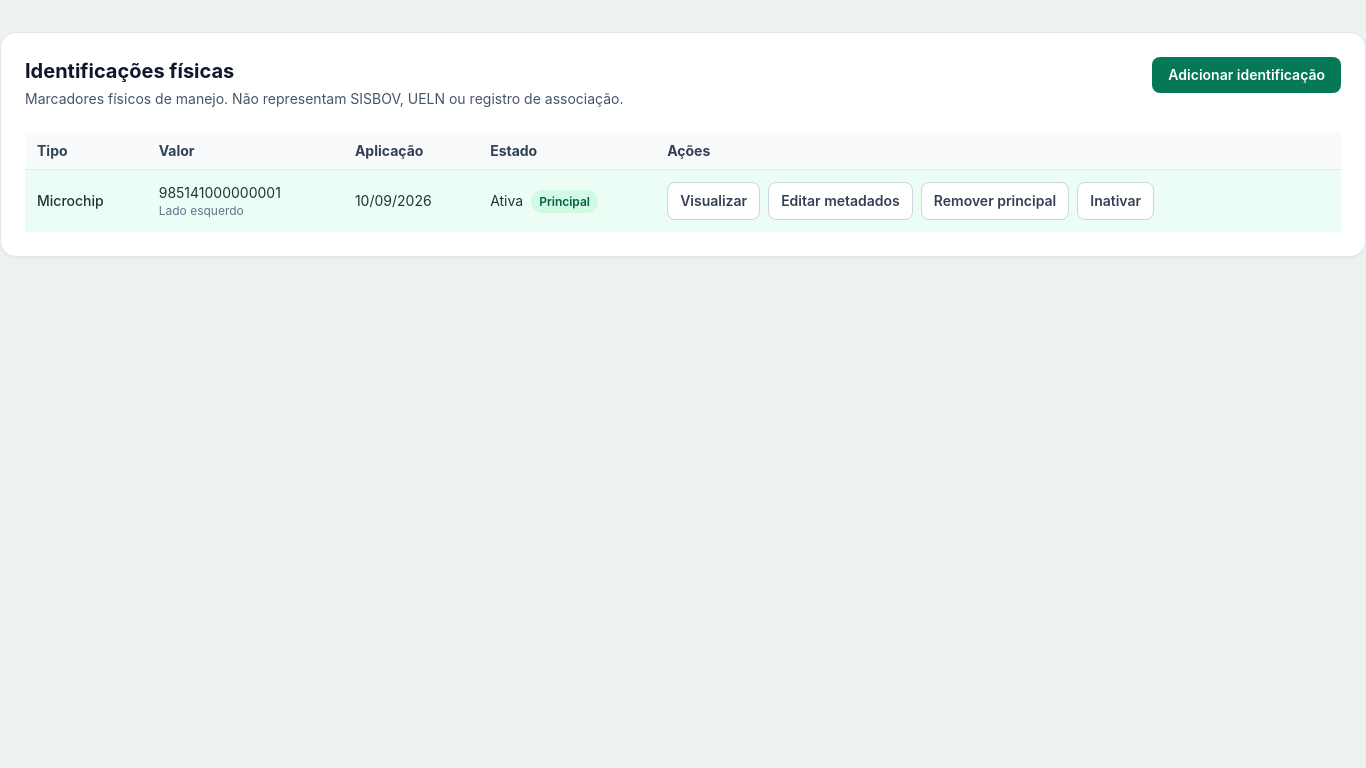
Scenario: AnimalIdentificationsPanel › edits metadata only and refreshes the list after success
Click the button "Editar metadados": (840, 201) x1=768 y1=182 x2=913 y2=220
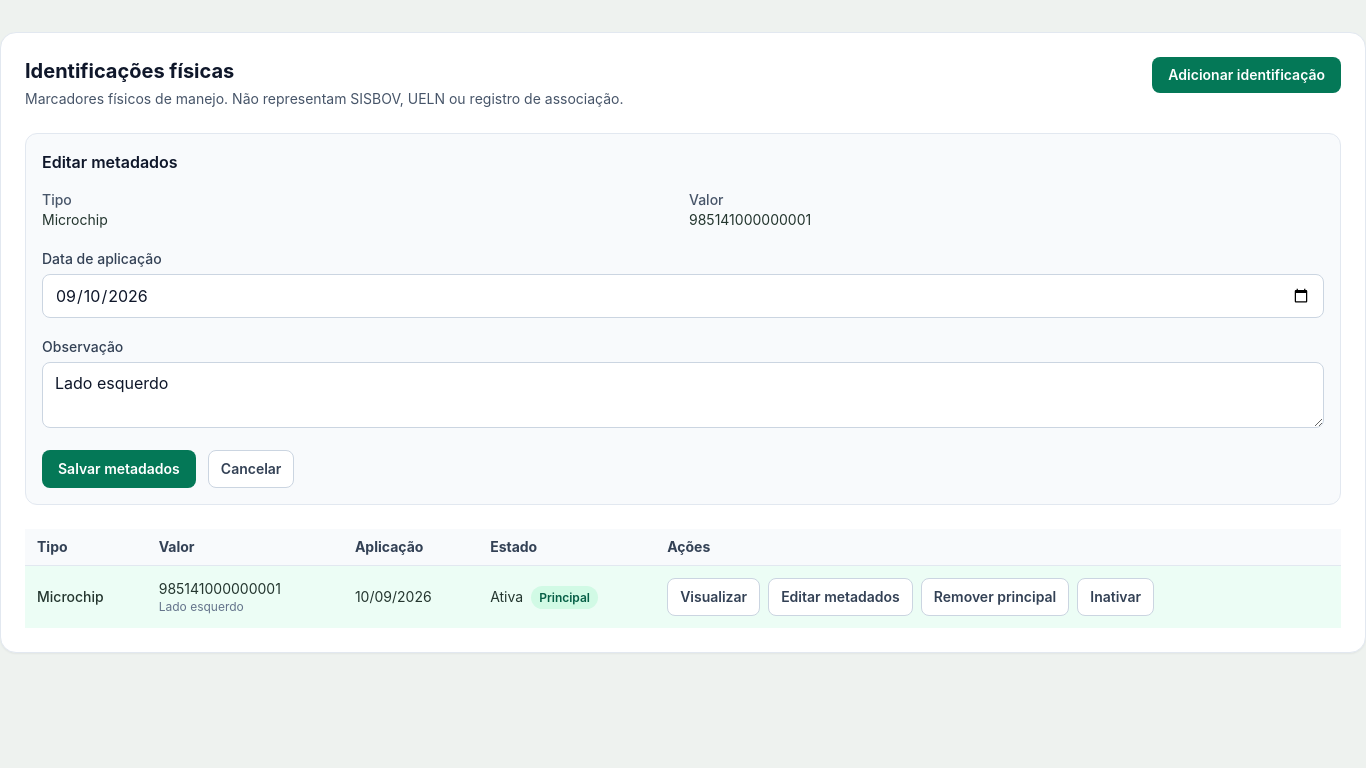
expect the text "Microchip" is shown 2 times: met, box x1=42 y1=211 x2=108 y2=228; x1=37 y1=588 x2=104 y2=605
expect the text "985141000000001" is shown 2 times: met, box x1=689 y1=211 x2=811 y2=228; x1=159 y1=580 x2=281 y2=597
Clear the date field labelled "Data de aplicação": (683, 296) x1=42 y1=274 x2=1324 y2=318
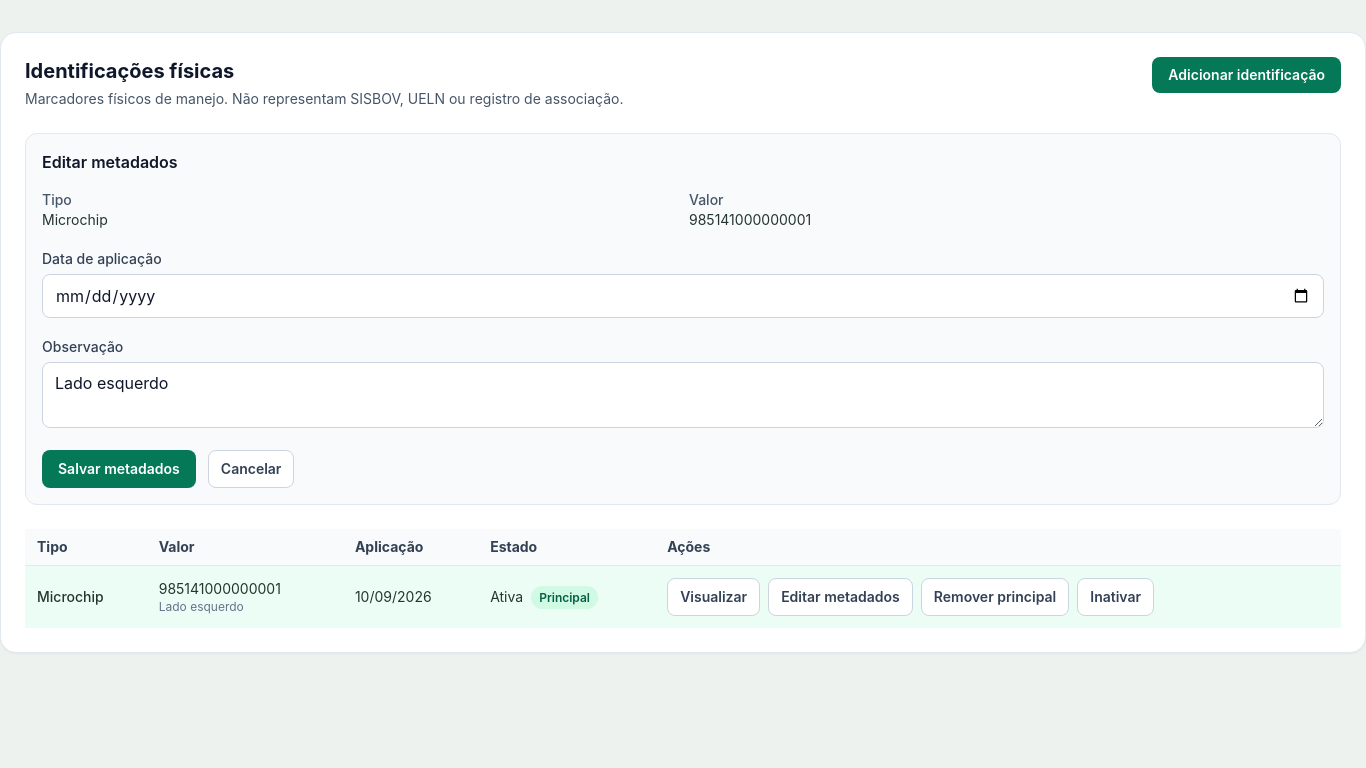
Replace the text in the text box labelled "Observação" with "  Nova nota  ": (683, 395) x1=42 y1=362 x2=1324 y2=428
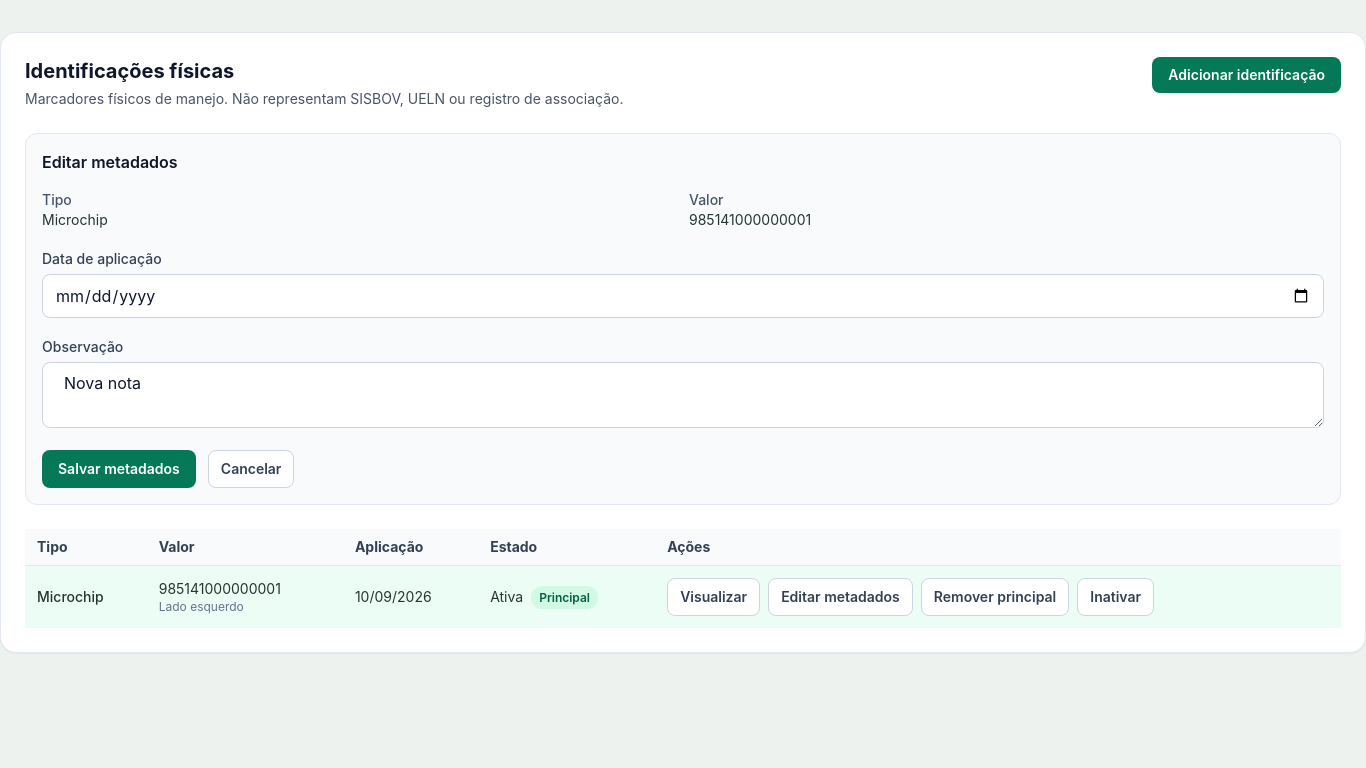
Click the button "Salvar metadados": (119, 469) x1=42 y1=450 x2=196 y2=488
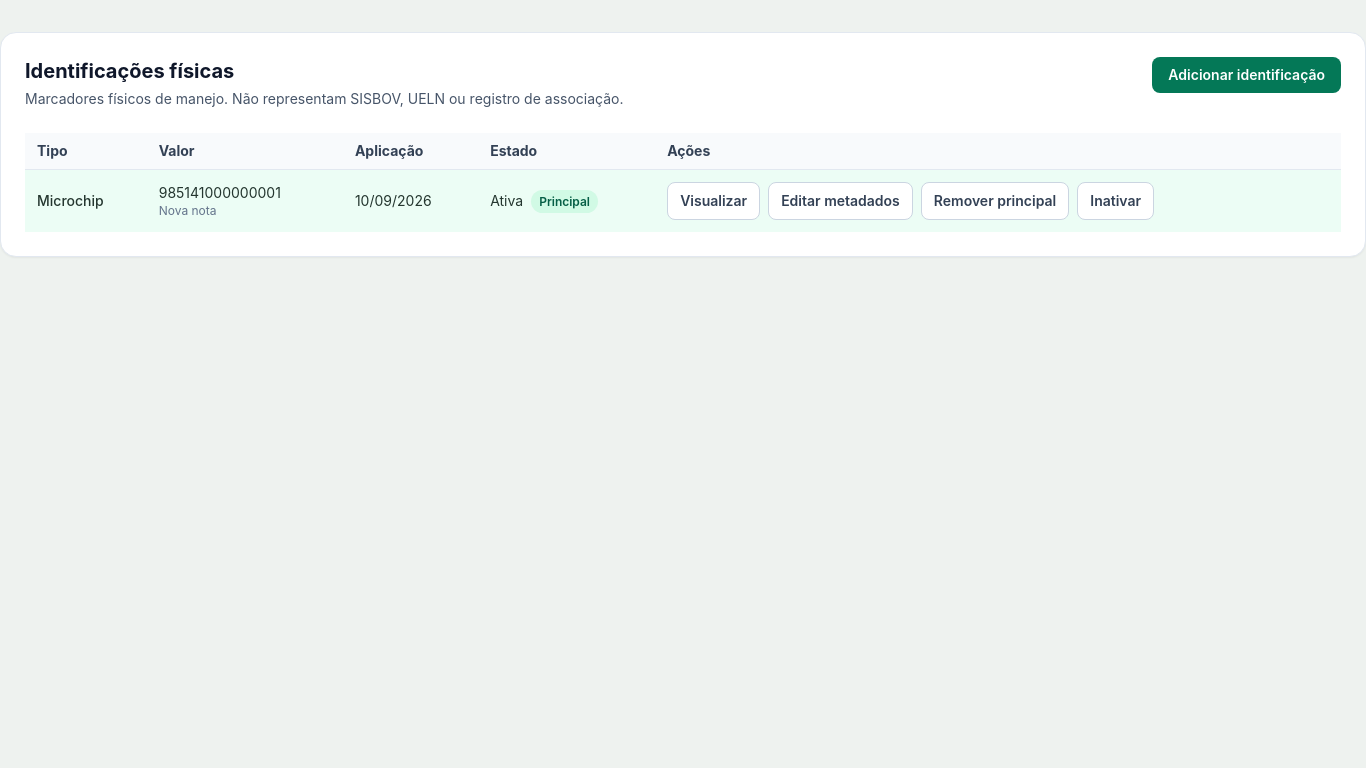
expect the text "Nova nota" is shown: met, box x1=159 y1=203 x2=216 y2=218
